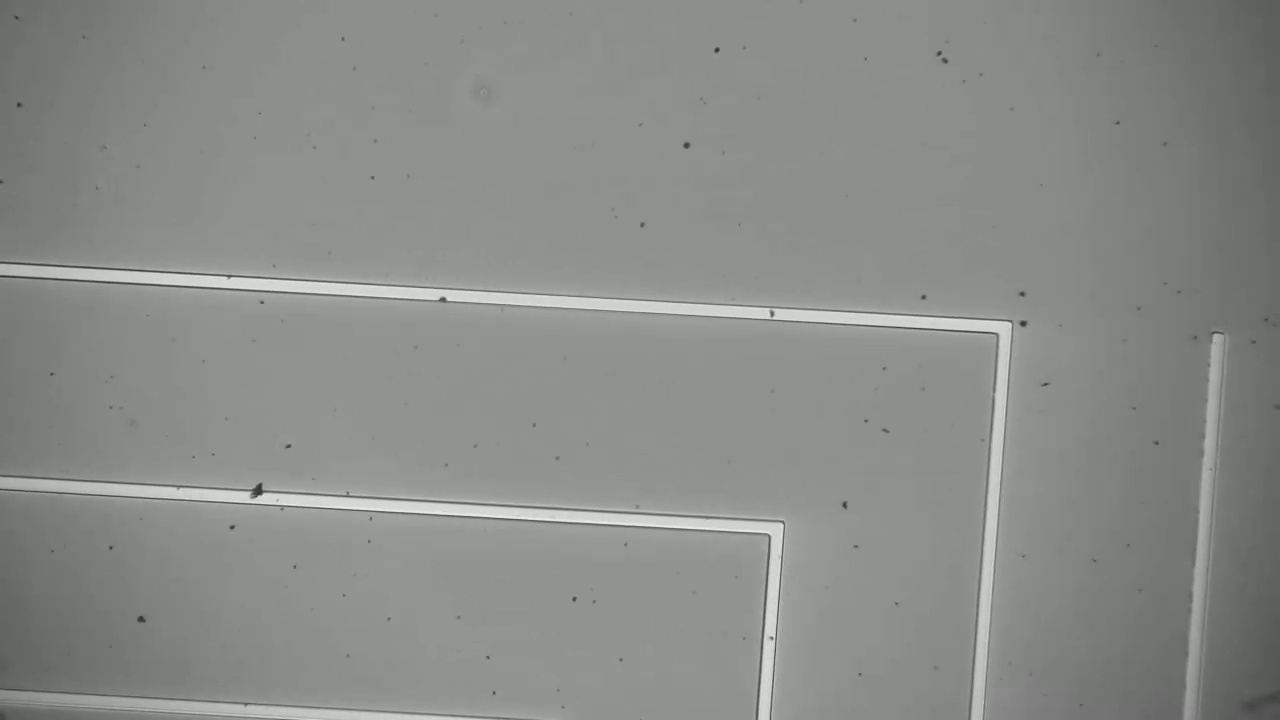stains_enbedded: (245, 480, 267, 509)
